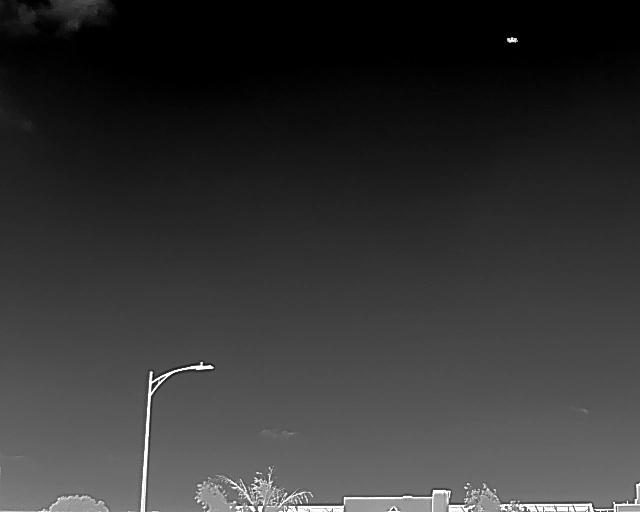fpv-drone: (506, 37, 517, 43)
